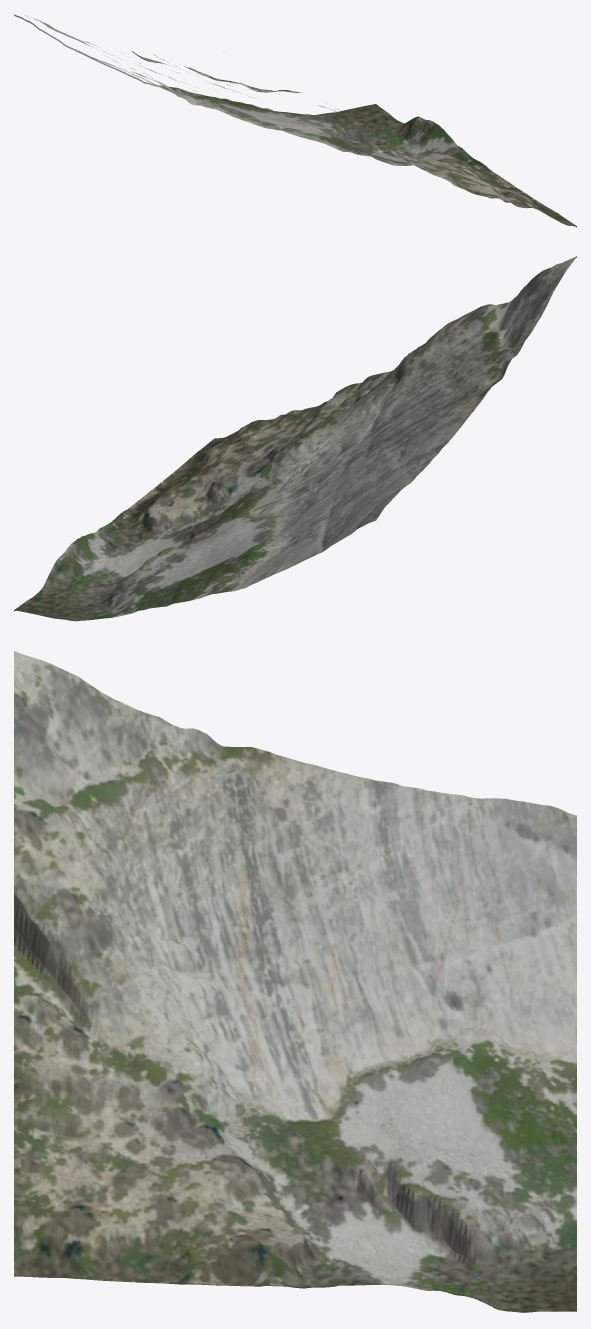
3 renders of one model, top to bottom at view 1: azimuth 30°, elevation 25°; view 2: azimuth 150°, elevation 25°; view 3: azimuth 270°, elevation 25°, orthographic. The views are drawn at different scales.
Size of the model in its own units: 250 by 197 by 241.
Materials: 1 (1 with a texture image).
